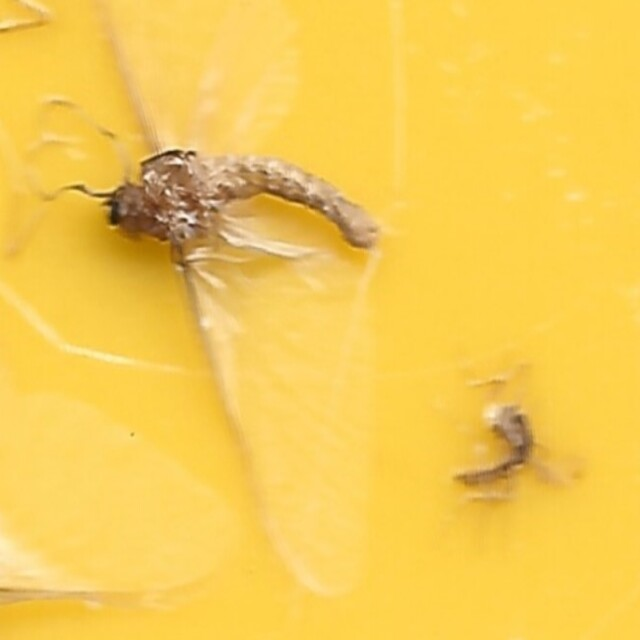Ephemeroptera: (98, 135, 385, 269)
Nematocera: (453, 393, 542, 505)
